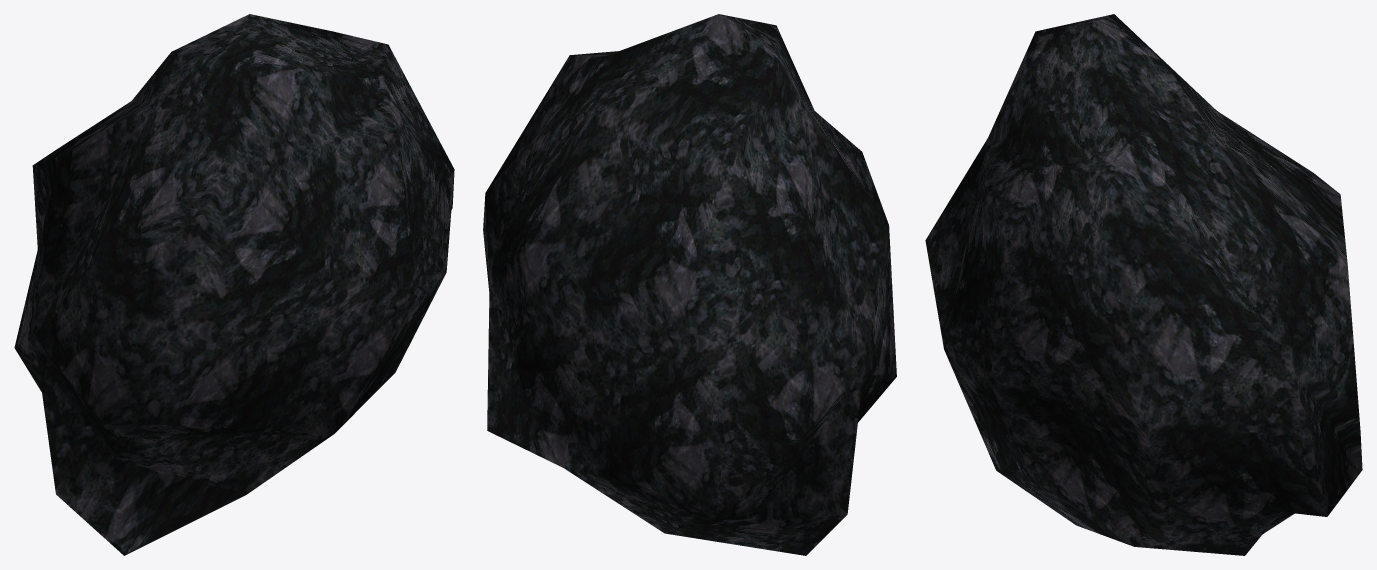
File: asteroid_obsidian_large_s02_l3.fbx
3 renders of one model, left to right at view 1: azimuth 30°, elevation 25°; view 2: azimuth 150°, elevation 25°; view 3: azimuth 270°, elevation 25°, orthographic. The views are drawn at different scales.
Visible parts, largest first — view 1: mesh_node; view 2: mesh_node; view 3: mesh_node.
Boxes of the visible parts, x1=… form: mesh_node: x1=14, y1=14, x2=454, y2=555; mesh_node: x1=483, y1=14, x2=896, y2=555; mesh_node: x1=925, y1=14, x2=1362, y2=555.
Bounding box in the file's own units: 114 × 141 × 97.74.
Materials: 1 (1 with a texture image).
